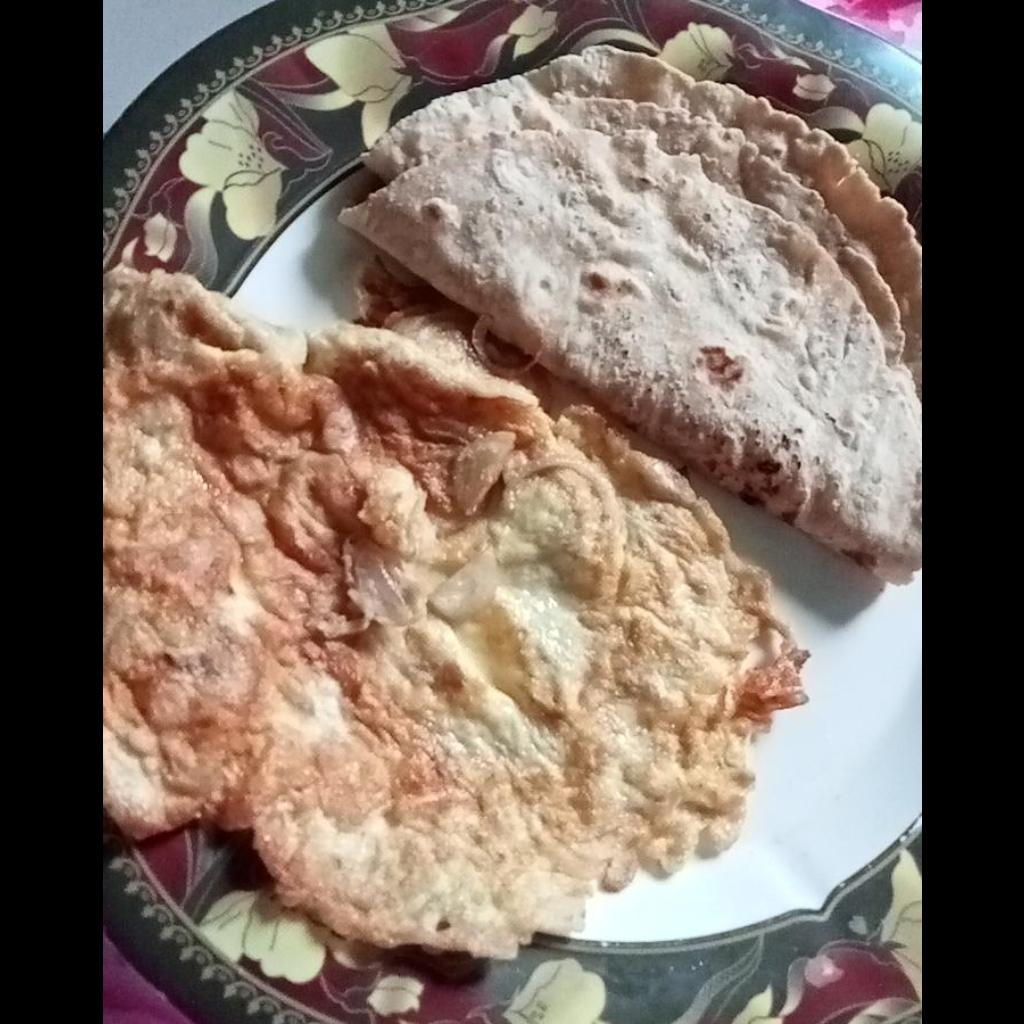egg-poached: (103, 255, 813, 959)
ruti: (336, 46, 920, 583)
